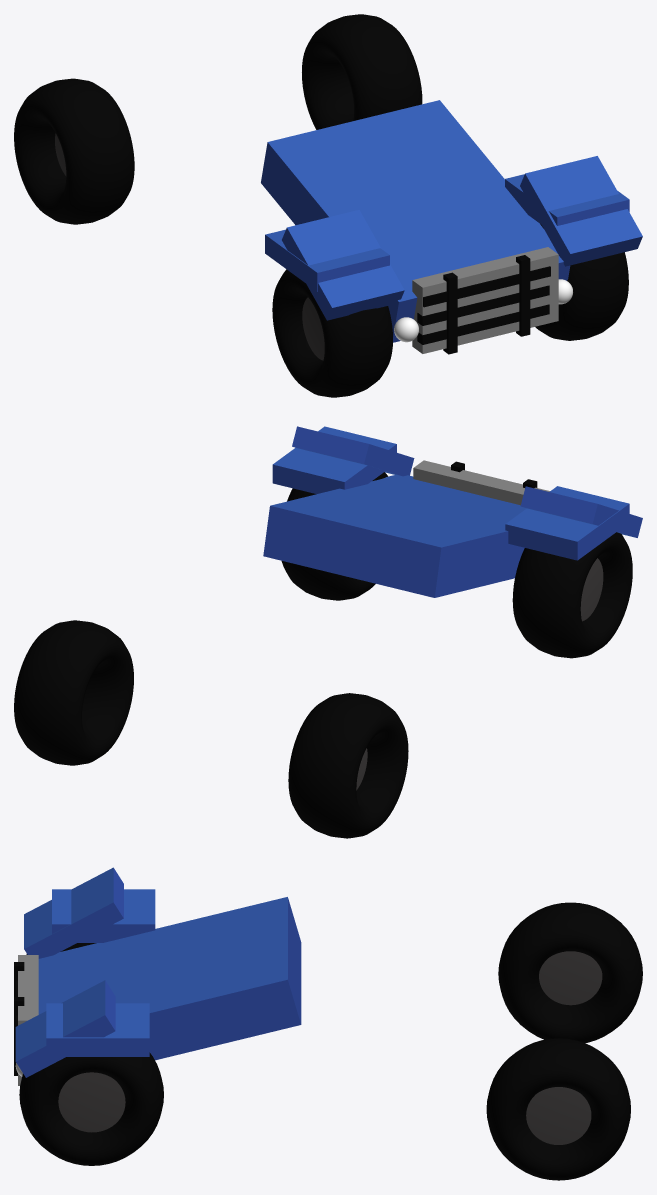
3 renders of one model, top to bottom at view 1: azimuth 30°, elevation 25°; view 2: azimuth 150°, elevation 25°; view 3: azimuth 270°, elevation 25°, orthographic.
Bounding box in the file's own units: 3.83 × 1.78 × 6.09.
